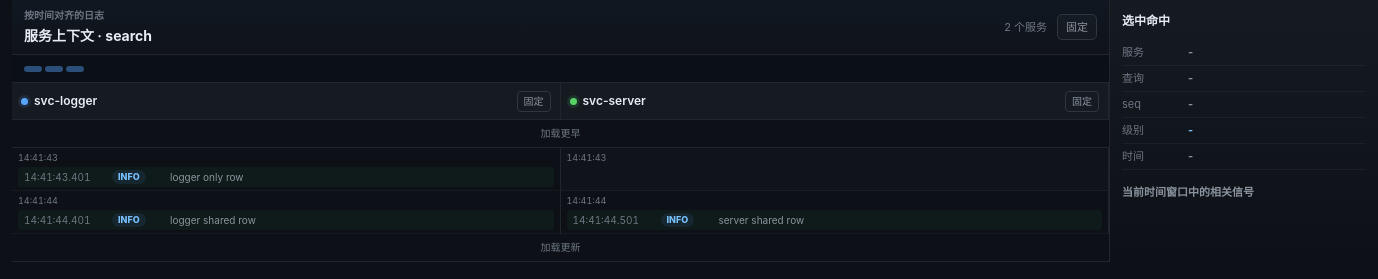
Test case: SearchServiceColumns › 固定服务后右侧滚动栏仍保留完整时间轴，避免剩余服务跳到另一段时间
Click the button "固定" in the row of "svc-logger" at (534, 101), box [516,90,550,112]
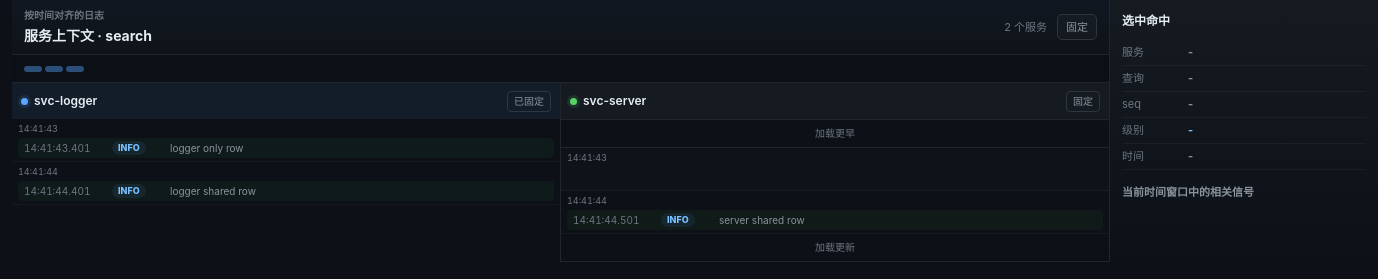
Expected: the element with class "bucket-row" shows "server shared row", [719,214,805,226]
Now the element with class "bucket-row" reads "14:41:43", box [567,152,607,163]
